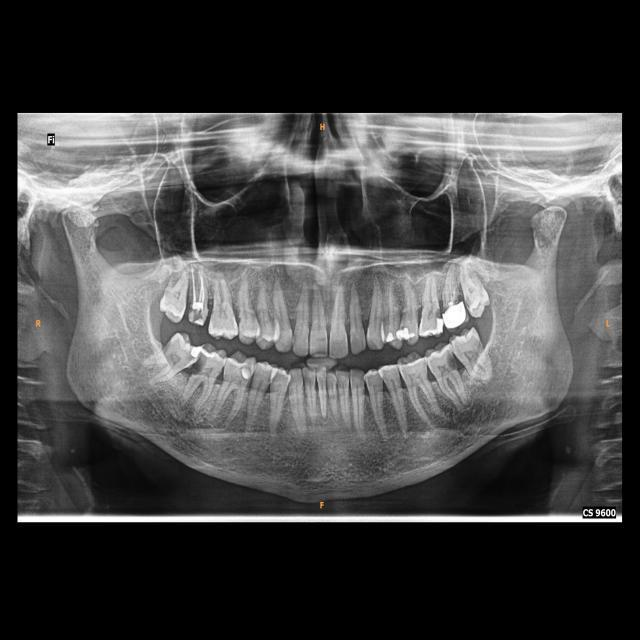dentin-curugu: (439, 348, 467, 377), (188, 349, 212, 380), (188, 299, 210, 327)
dolgu: (392, 324, 417, 346), (417, 316, 445, 335)
kanal-tedavisi: (189, 263, 209, 305)
kaplama: (439, 299, 468, 331)
